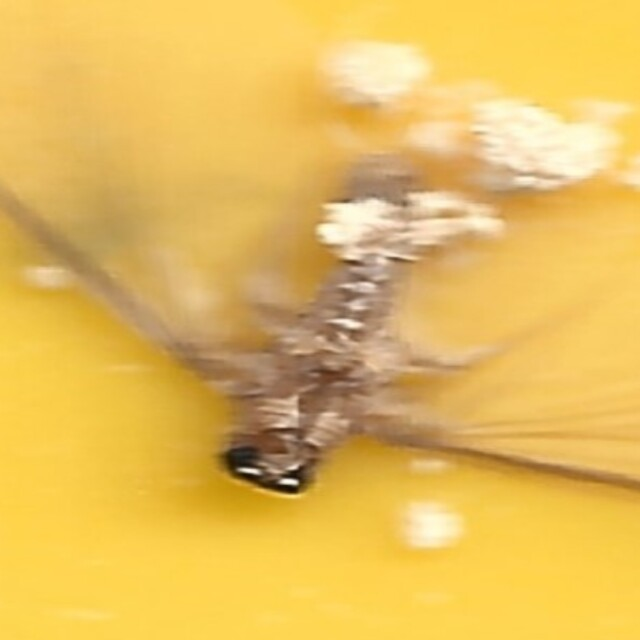Ephemeroptera: (213, 145, 427, 495)
